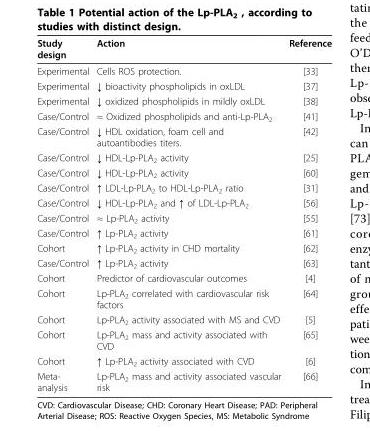table: (36, 36, 331, 392)
table column: (92, 36, 284, 392), (36, 36, 92, 392), (284, 36, 331, 392)
table column header: (36, 36, 331, 62)
table row: (36, 36, 331, 62), (36, 123, 331, 149), (36, 285, 331, 311), (36, 327, 331, 353), (36, 368, 331, 392), (36, 62, 331, 78), (36, 149, 331, 165), (36, 311, 331, 327), (36, 78, 331, 93), (36, 93, 331, 108), (36, 108, 331, 123), (36, 165, 331, 180), (36, 180, 331, 195), (36, 195, 331, 210), (36, 210, 331, 225), (36, 225, 331, 240), (36, 240, 331, 255), (36, 255, 331, 270), (36, 270, 331, 285), (36, 353, 331, 368)
